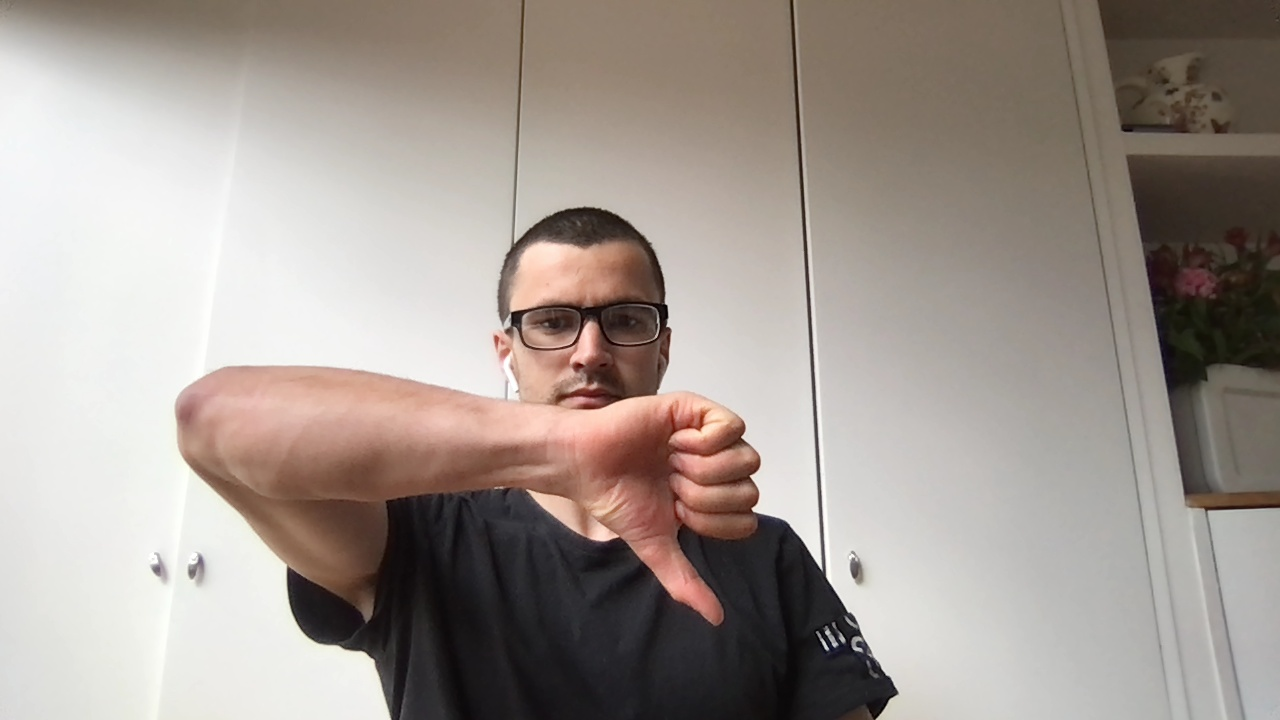thumbDown: (579, 390, 760, 626)
